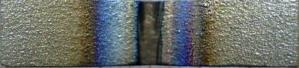soldas: (68, 1, 211, 66)
